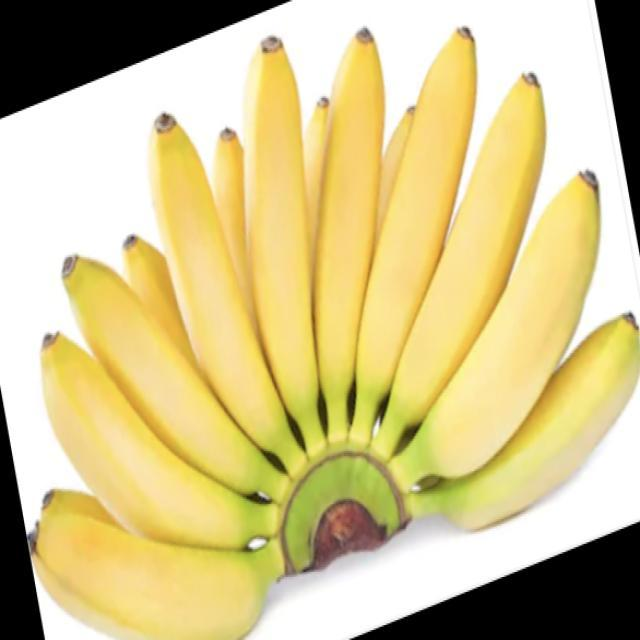Banana: (27, 24, 639, 639)
